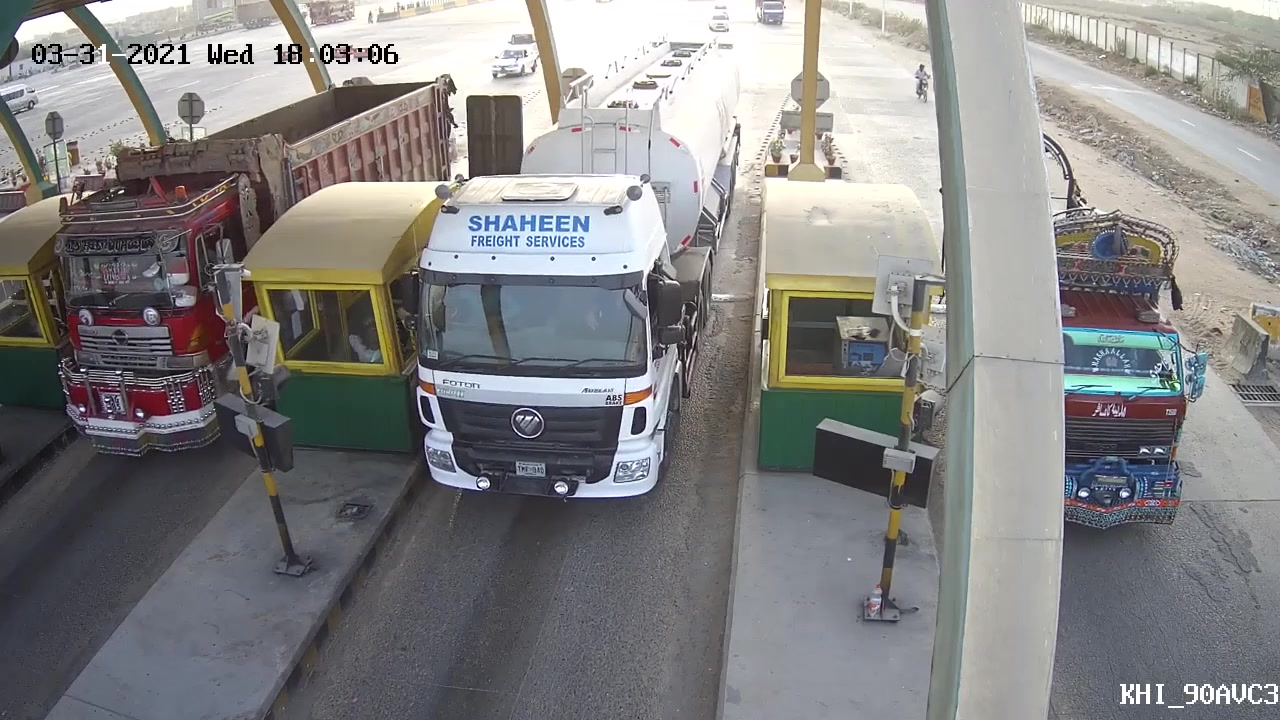F6: (391, 29, 760, 509)
